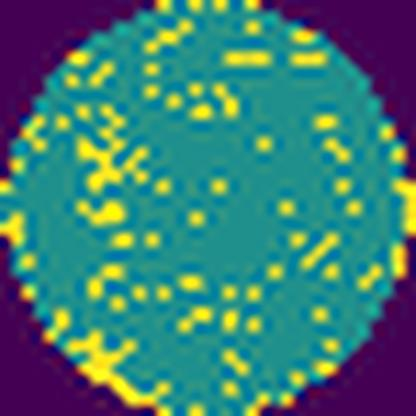Edge-Loc: (62, 326, 176, 415), (385, 175, 416, 241)
